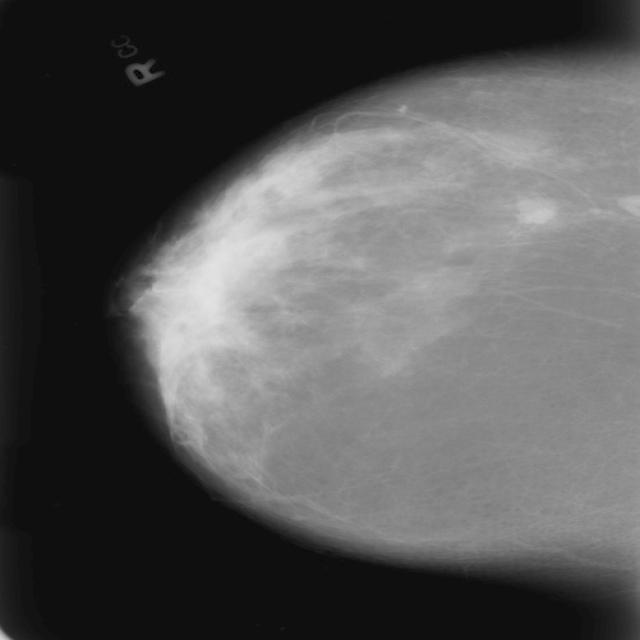tumour: (514, 196, 558, 226)
